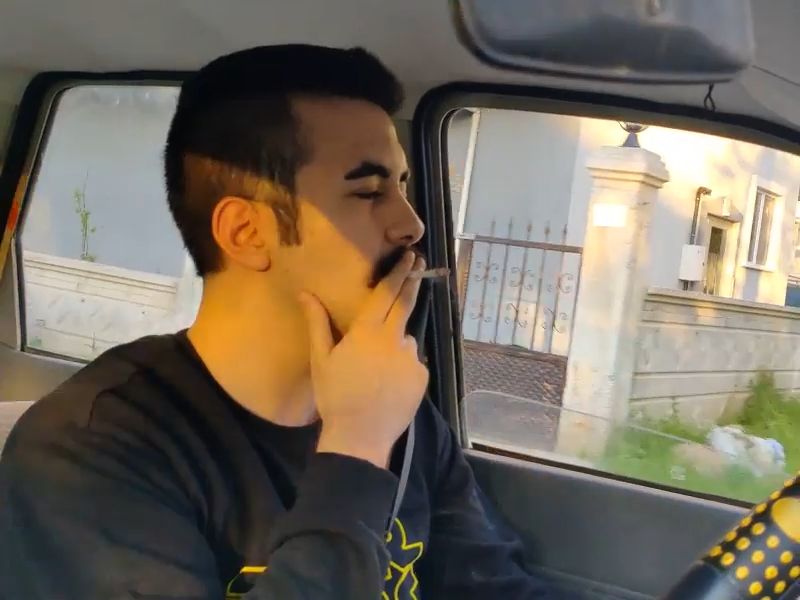sigara: (394, 263, 458, 287)
